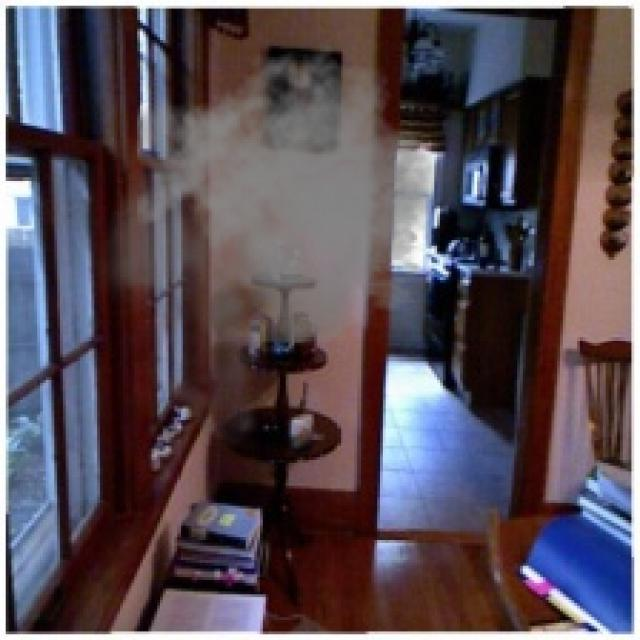Smoke: (91, 42, 460, 452)
